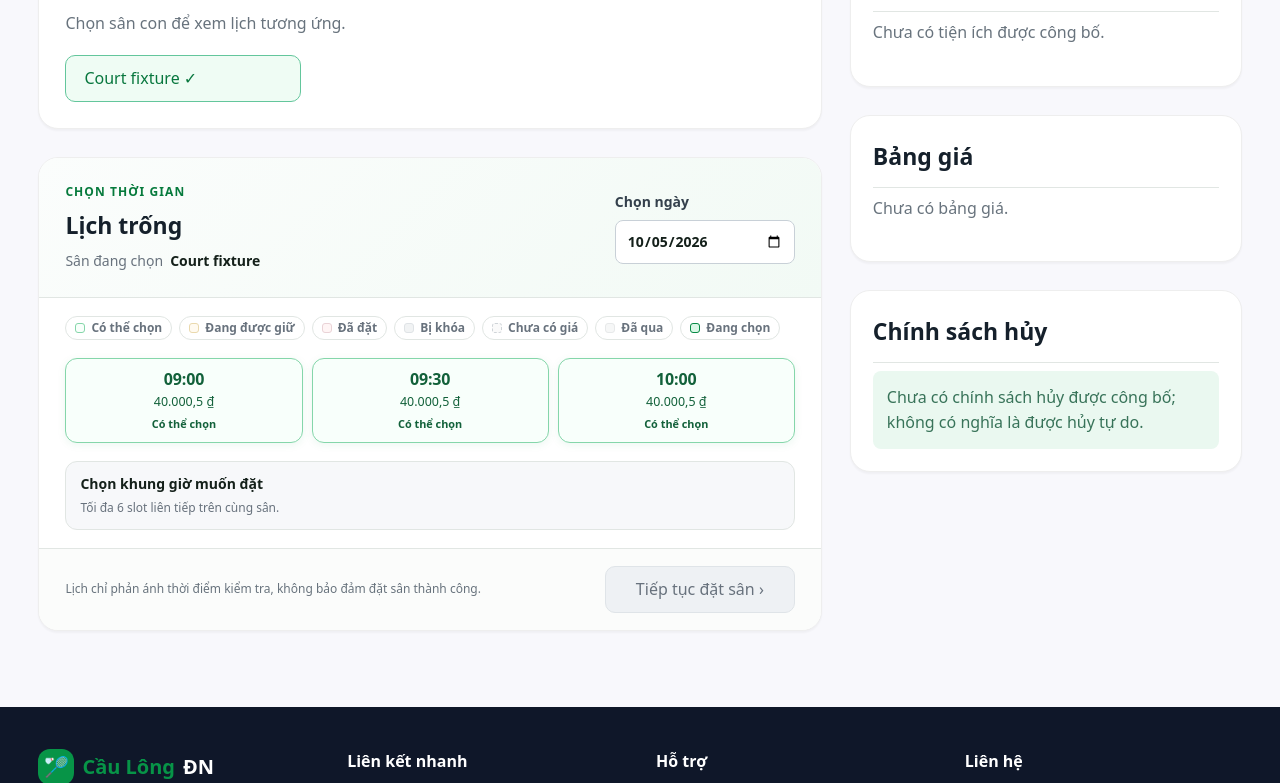
Test: successful V2 create routes directly to its read-only transfer instructions
(page scrolled)
What coordinates should you click on to do the following:
click the button with aria-label "09:00–09:30"
I would click on:
 (184, 400)
Its box is [65,358,303,443].
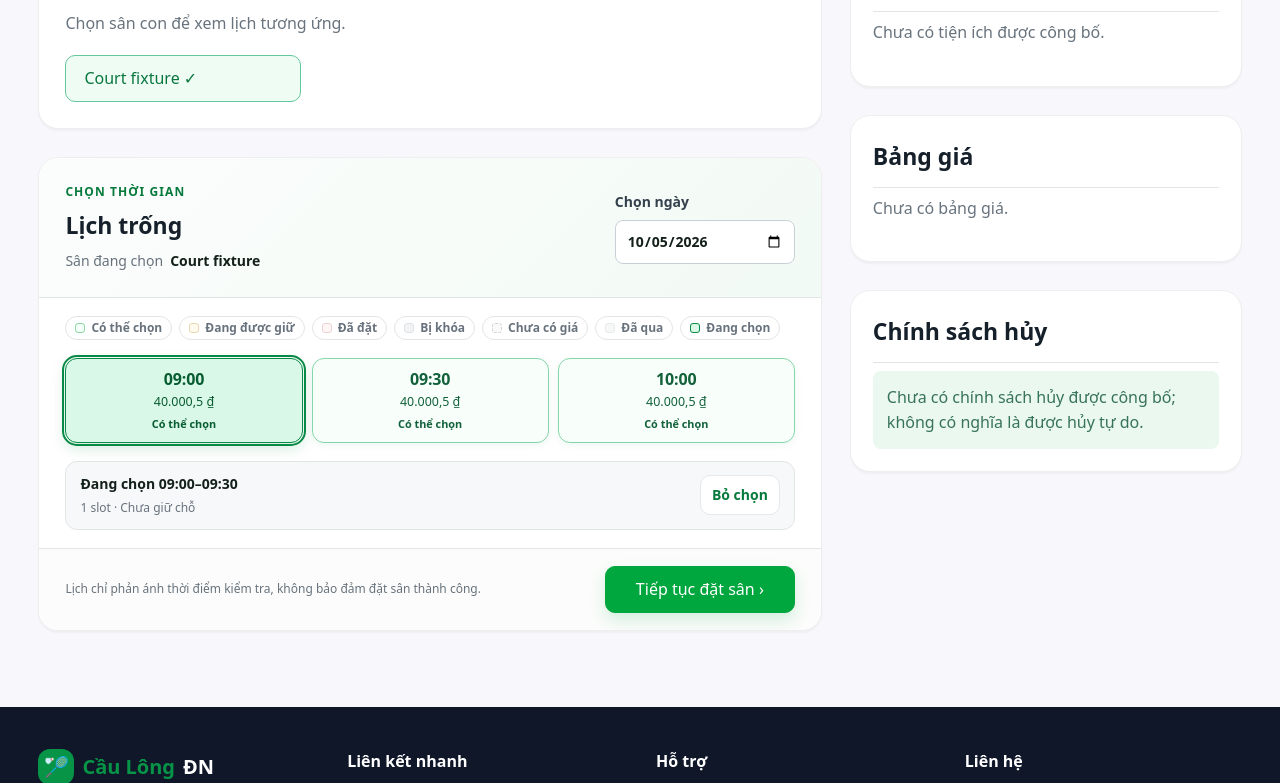
What coordinates should you click on to do the following:
click the button with aria-label "09:30–10:00"
I would click on:
 (430, 400)
Its box is [312,358,549,443].
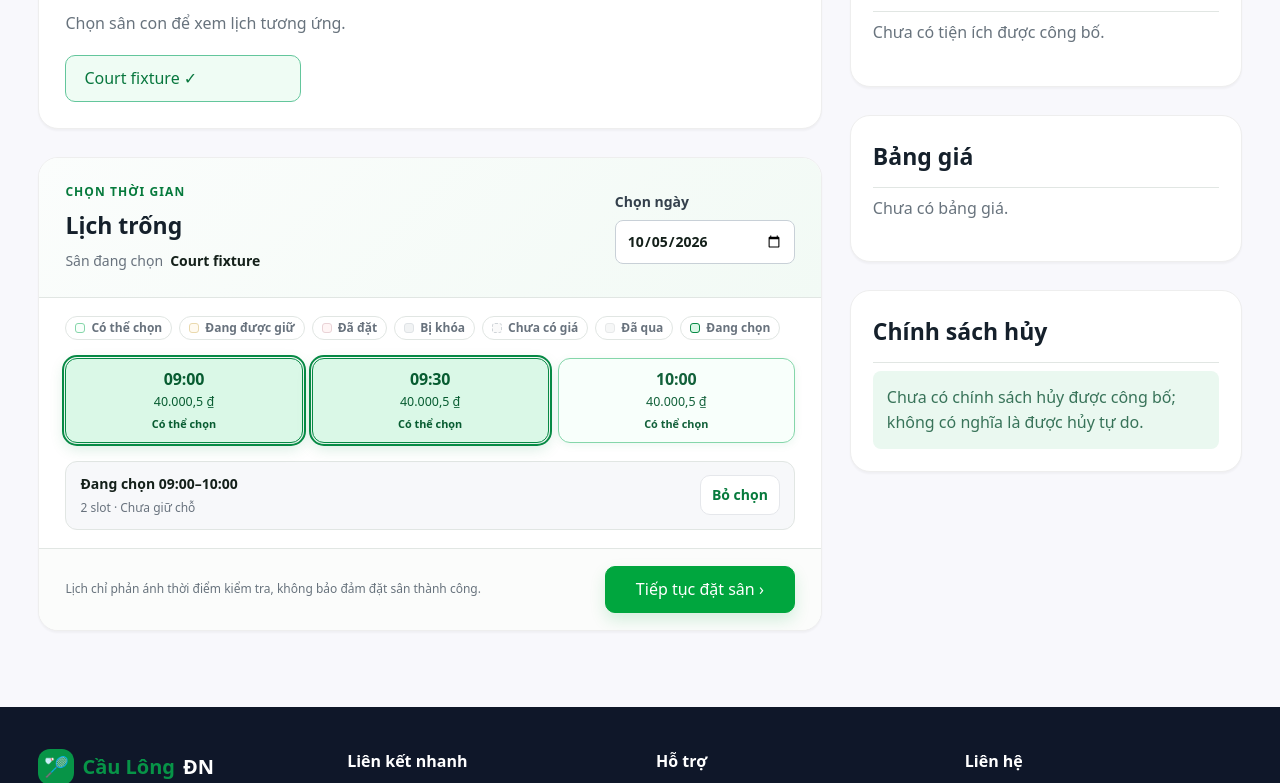
What coordinates should you click on to do the following:
click the button "Tiếp tục đặt sân ›"
I would click on:
 (700, 590)
Its box is [605,566,795,613].
(page scrolled)
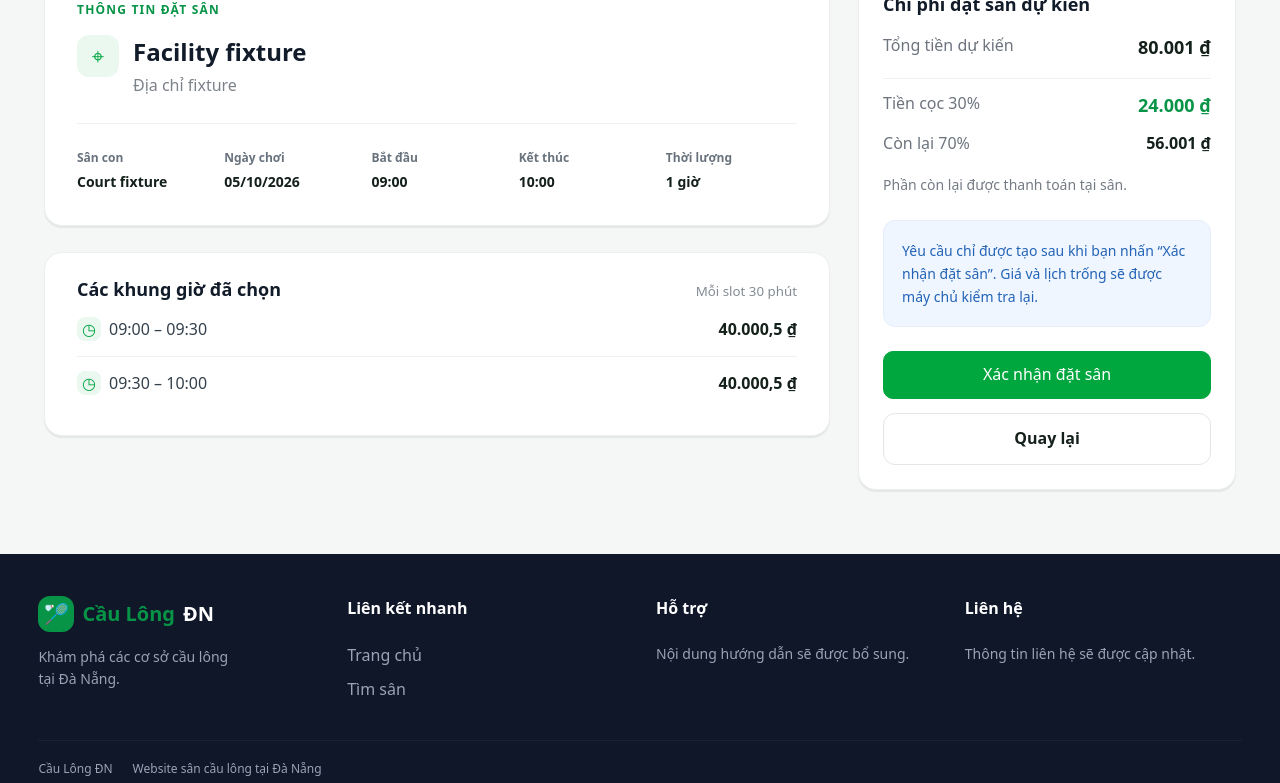
What coordinates should you click on to do the following:
click the button "Xác nhận đặt sân"
I would click on:
 (1047, 375)
Its box is [883,351,1211,399].
(page scrolled)
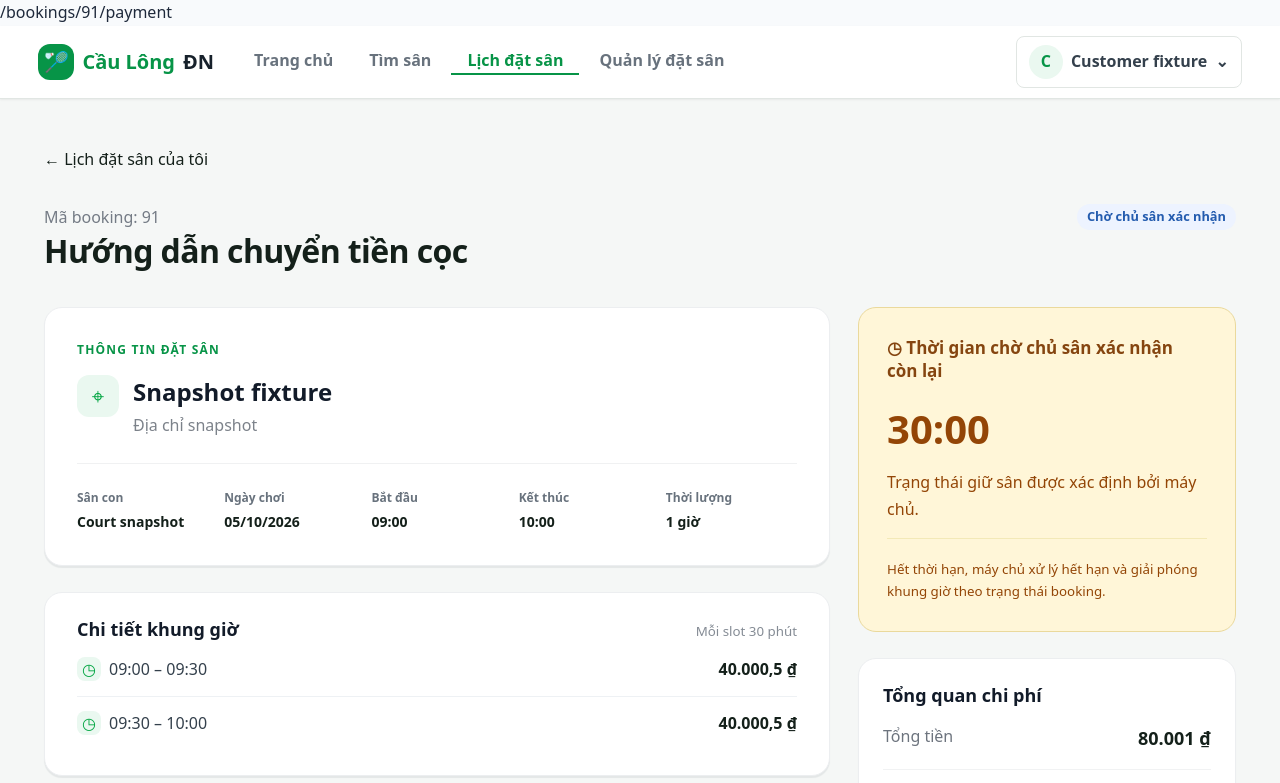
expect the heading "Hướng dẫn chuyển tiền cọc" is shown: met, box [44,231,468,271]
expect the text with test id "location" reads "/bookings/91/payment": met, box [0,1,172,23]
